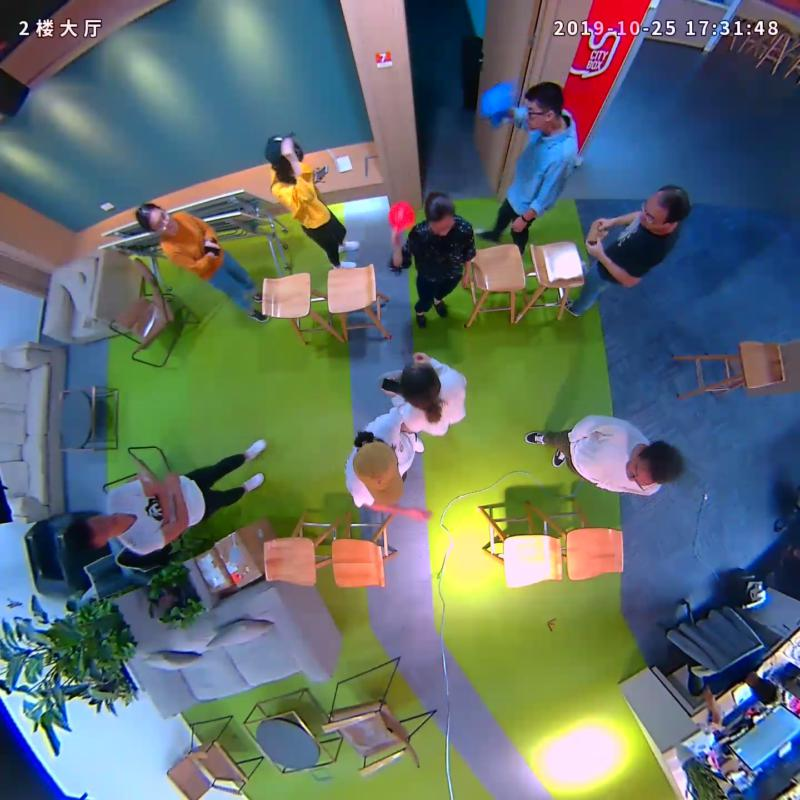head: (352, 439, 405, 508), (626, 438, 683, 487), (641, 183, 691, 232), (64, 513, 123, 552), (524, 82, 565, 132), (400, 360, 441, 409), (266, 131, 305, 172), (423, 191, 455, 235), (135, 203, 175, 235)
